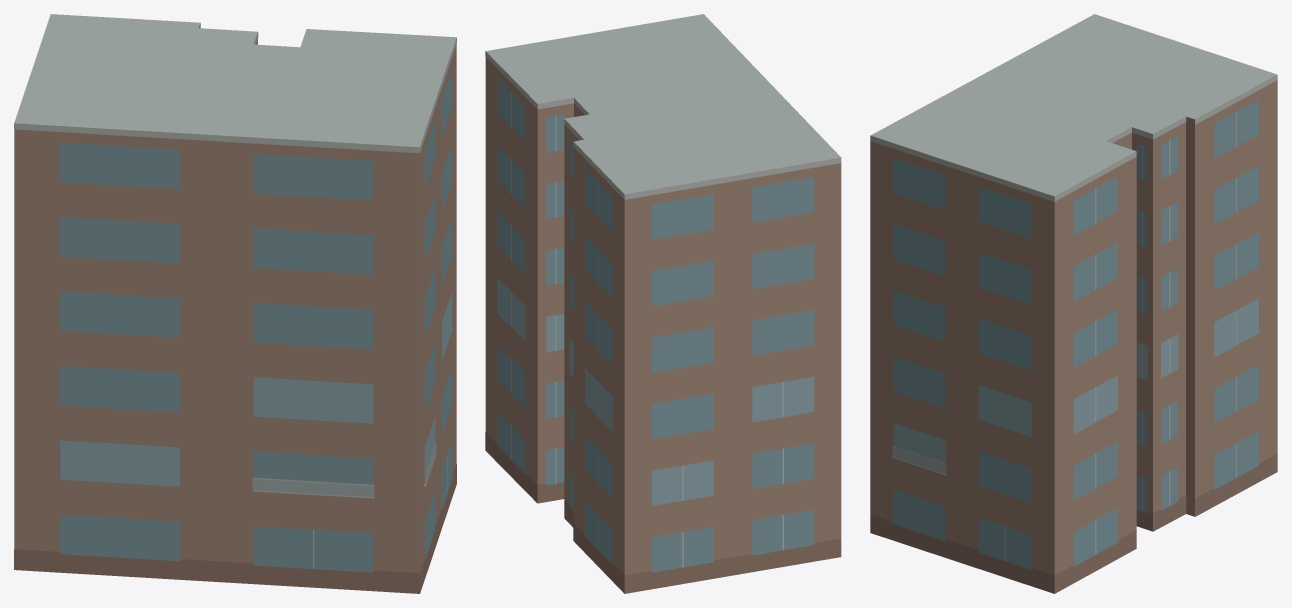
File: survey-upis-32994385.glb
3 renders of one model, left to right at view 1: azimuth 30°, elevation 25°; view 2: azimuth 150°, elevation 25°; view 3: azimuth 270°, elevation 25°, orthographic. The views are drawn at different scales.
Parts seen in each view (by area): view 1: survey-upis-32994385.tmp; view 2: survey-upis-32994385.tmp; view 3: survey-upis-32994385.tmp.
Boxes of the visible parts, <box> form: survey-upis-32994385.tmp: <box>14,14,456,593</box>; survey-upis-32994385.tmp: <box>485,14,841,593</box>; survey-upis-32994385.tmp: <box>870,14,1277,593</box>.
Bounding box in the file's own units: 17.63 × 17.9 × 16.63.
